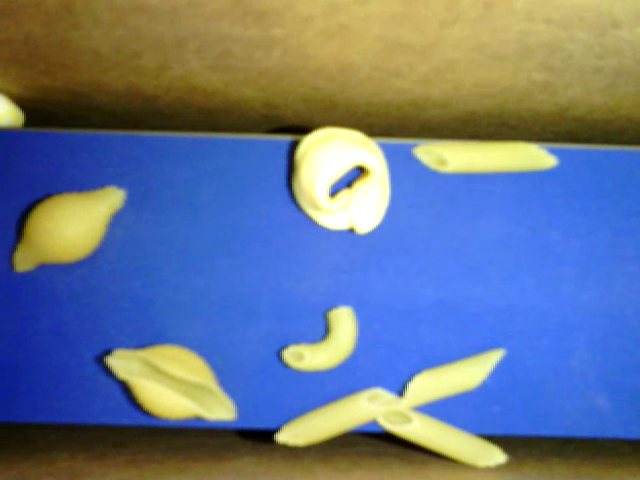elbow: (280, 305, 359, 374)
penne: (373, 407, 510, 468), (274, 386, 402, 446), (400, 347, 507, 409), (411, 139, 559, 173)
shell: (105, 343, 238, 422), (11, 186, 126, 272)
tortellini: (291, 126, 391, 235)
